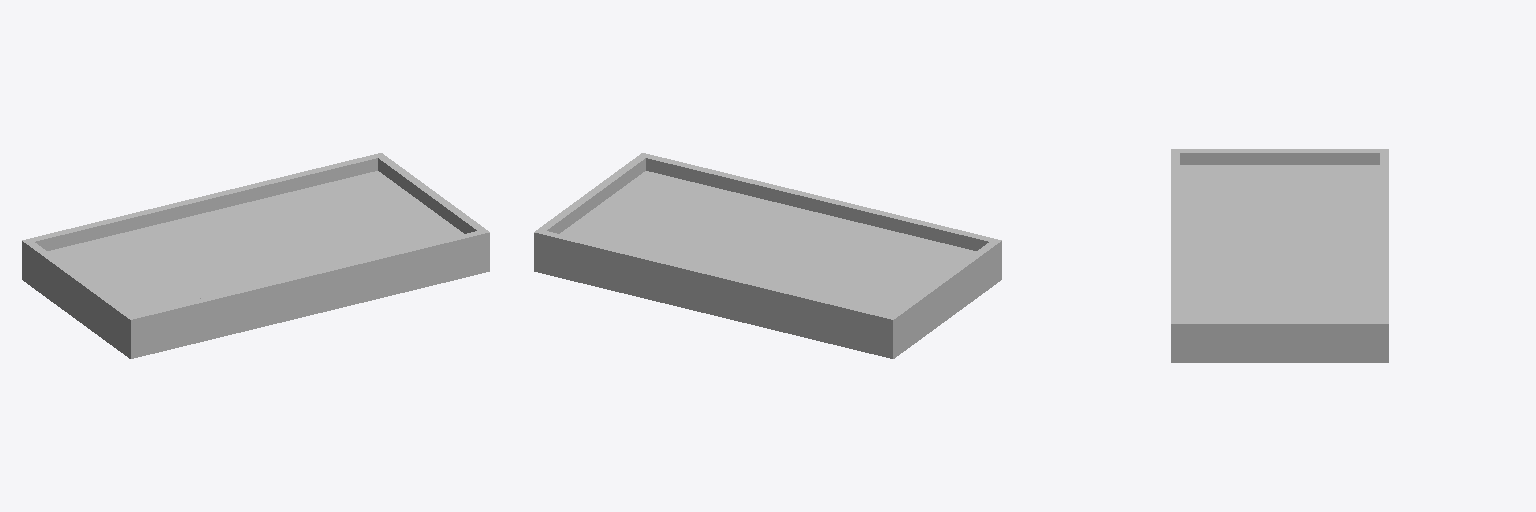
File: table_nomaterials.obj
3 views of the same model, side by side, from view 1: azimuth 30°, elevation 25°; view 2: azimuth 150°, elevation 25°; view 3: azimuth 270°, elevation 25° (orthographic).
Visible parts, largest first — view 1: Table; view 2: Table; view 3: Table.
Boxes of the visible parts, <box> form: Table: <box>22,153,489,358</box>; Table: <box>534,153,1001,358</box>; Table: <box>1171,149,1388,362</box>.
Size of the model in its own units: 8.95 by 0.9326 by 4.69.